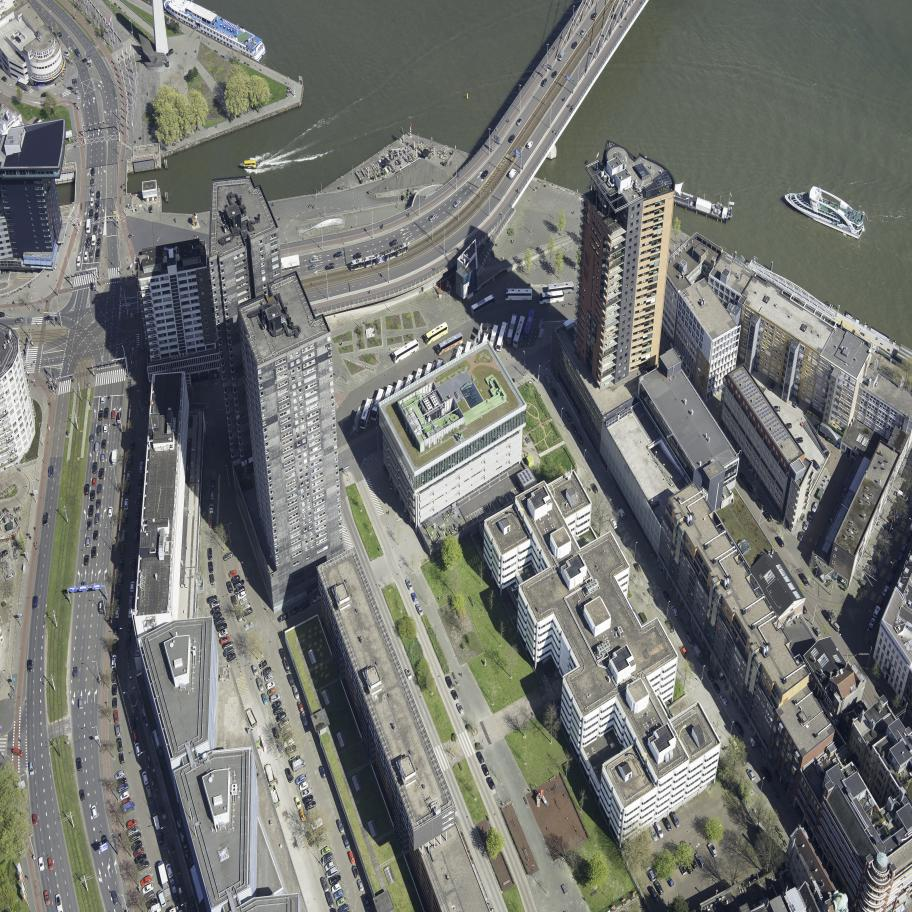large-vehicle: (347, 241, 411, 273), (431, 330, 468, 359), (389, 338, 423, 365), (466, 291, 500, 318), (421, 321, 452, 346), (267, 254, 302, 273), (369, 387, 387, 422), (477, 323, 494, 358), (419, 361, 435, 395), (512, 315, 527, 349), (400, 373, 416, 404), (380, 383, 395, 416), (359, 397, 374, 429), (494, 321, 509, 353), (410, 367, 424, 400), (523, 308, 537, 340), (547, 280, 575, 296), (390, 379, 405, 408), (486, 324, 500, 355), (430, 359, 444, 389), (459, 341, 474, 369), (506, 313, 519, 345), (538, 290, 565, 305), (504, 288, 532, 301), (149, 800, 161, 830)
ship: (772, 170, 876, 248), (660, 184, 736, 225), (239, 159, 258, 170)
small-vehicle: (157, 860, 172, 898), (290, 757, 309, 773), (689, 641, 704, 661), (120, 800, 138, 815), (682, 856, 695, 876), (894, 489, 911, 504), (323, 866, 341, 880), (760, 765, 774, 783), (647, 885, 661, 903), (644, 865, 658, 883), (669, 810, 682, 829), (653, 821, 666, 840), (308, 817, 325, 831), (132, 852, 149, 866), (694, 852, 707, 870), (653, 879, 666, 897), (647, 825, 660, 843), (304, 829, 316, 848), (237, 599, 253, 613), (297, 597, 313, 611), (220, 549, 236, 563), (138, 874, 154, 888), (733, 719, 746, 736), (706, 842, 719, 859), (135, 859, 152, 872), (882, 522, 897, 536), (293, 773, 309, 786), (319, 852, 335, 865), (221, 645, 237, 658), (141, 890, 157, 903), (140, 883, 156, 896), (115, 782, 131, 795), (157, 890, 168, 908), (168, 877, 179, 895), (829, 619, 843, 633), (334, 895, 349, 908), (278, 724, 293, 737), (890, 504, 905, 517), (876, 533, 891, 546), (864, 563, 879, 576), (129, 839, 144, 852), (131, 846, 146, 859), (127, 831, 143, 843), (662, 816, 674, 832), (324, 891, 335, 908), (867, 558, 881, 571), (863, 567, 877, 580), (310, 593, 325, 605), (240, 606, 255, 618), (259, 666, 274, 678), (328, 874, 343, 886), (303, 799, 318, 811), (798, 572, 810, 587), (728, 736, 740, 751), (821, 608, 833, 623), (875, 685, 887, 700), (145, 897, 160, 909), (124, 818, 139, 830), (117, 790, 132, 802), (126, 825, 141, 837), (475, 749, 486, 765), (687, 854, 698, 870), (871, 604, 882, 620), (285, 767, 295, 784), (320, 876, 330, 893), (362, 893, 372, 910), (678, 861, 688, 878), (288, 605, 302, 617), (300, 787, 314, 799), (282, 737, 296, 749), (277, 717, 291, 729), (274, 711, 288, 723), (268, 692, 282, 704), (319, 845, 333, 857), (332, 889, 346, 901), (774, 535, 786, 549), (205, 593, 219, 605), (883, 697, 895, 711), (218, 634, 232, 646), (232, 579, 247, 590), (486, 776, 497, 791), (798, 601, 809, 616), (220, 639, 235, 650), (683, 629, 694, 644), (664, 873, 675, 888), (275, 738, 285, 754), (678, 642, 688, 658), (873, 543, 886, 555), (886, 514, 899, 526), (113, 769, 126, 781), (11, 747, 25, 758), (276, 612, 290, 623), (270, 700, 284, 711), (288, 755, 302, 766), (329, 883, 343, 894), (233, 585, 247, 596), (323, 861, 337, 872), (705, 669, 716, 683), (745, 767, 756, 781), (215, 622, 229, 633), (216, 628, 230, 639), (111, 447, 119, 466), (110, 890, 120, 905), (341, 834, 351, 849), (336, 819, 346, 834), (347, 850, 357, 865), (351, 864, 361, 879), (665, 619, 675, 634), (37, 856, 46, 872), (283, 658, 292, 674), (287, 673, 296, 689), (292, 685, 301, 701), (300, 711, 309, 727), (256, 677, 265, 693), (318, 764, 327, 780), (452, 197, 464, 209), (234, 607, 243, 623), (141, 770, 150, 786), (165, 863, 174, 879), (236, 590, 249, 601), (256, 659, 269, 670), (225, 652, 238, 663), (314, 833, 327, 844), (755, 498, 766, 511), (762, 510, 773, 523), (542, 373, 553, 386), (507, 167, 518, 180), (211, 611, 224, 622), (209, 605, 222, 616), (213, 616, 226, 627), (209, 599, 222, 610), (115, 776, 128, 787), (278, 647, 288, 661), (260, 692, 270, 706), (719, 693, 729, 707), (43, 890, 51, 907), (173, 894, 182, 909), (263, 672, 275, 683), (889, 510, 901, 521), (650, 499, 662, 510), (810, 459, 821, 471), (285, 744, 298, 754), (272, 706, 285, 716), (312, 827, 325, 837), (302, 794, 315, 804), (609, 517, 619, 530), (575, 432, 585, 445), (617, 507, 627, 520), (662, 590, 672, 603), (670, 604, 680, 617), (98, 598, 106, 614), (116, 737, 124, 753), (129, 715, 137, 731), (298, 809, 307, 823), (445, 675, 454, 689), (481, 763, 490, 777), (456, 701, 465, 715), (891, 561, 900, 575), (3, 572, 15, 582), (266, 687, 278, 697), (265, 681, 277, 691), (298, 781, 310, 791), (230, 574, 242, 584), (357, 878, 365, 893), (744, 481, 754, 493), (737, 471, 747, 483), (563, 410, 573, 422), (495, 495, 505, 507), (226, 579, 234, 594), (712, 682, 722, 694), (767, 380, 777, 392), (134, 742, 142, 757), (145, 784, 153, 799), (121, 796, 133, 806), (272, 727, 281, 740), (296, 700, 305, 713), (405, 578, 414, 591), (415, 603, 424, 616), (404, 668, 413, 681), (886, 572, 895, 585), (590, 482, 599, 495), (881, 584, 890, 597), (792, 397, 801, 410), (811, 500, 820, 513), (899, 542, 908, 555), (90, 805, 98, 819), (31, 813, 39, 827), (101, 835, 108, 851), (294, 796, 302, 810), (428, 212, 439, 222), (480, 169, 490, 180), (510, 583, 521, 593), (812, 626, 822, 637), (525, 139, 535, 150), (282, 732, 294, 741), (450, 689, 459, 701), (324, 262, 336, 271), (557, 50, 566, 62), (570, 423, 579, 435), (797, 530, 806, 542), (876, 596, 885, 608), (802, 520, 811, 532), (42, 512, 49, 527), (114, 723, 121, 738), (231, 595, 239, 608), (896, 551, 904, 564), (807, 510, 815, 523), (238, 597, 249, 606), (227, 569, 238, 578), (388, 238, 399, 247), (352, 251, 363, 260), (507, 133, 516, 144), (550, 387, 559, 398), (164, 48, 175, 57), (633, 562, 642, 573), (47, 858, 54, 872), (76, 757, 83, 771), (132, 729, 139, 743), (868, 617, 876, 629), (251, 664, 259, 676), (86, 518, 93, 531), (79, 789, 86, 802), (209, 573, 216, 586), (29, 762, 35, 777), (111, 654, 117, 669), (540, 77, 549, 87), (113, 709, 119, 724), (516, 116, 524, 127), (32, 596, 38, 610), (119, 751, 125, 765), (590, 11, 598, 21), (48, 465, 54, 478), (27, 660, 33, 673), (88, 504, 94, 517), (91, 546, 97, 559), (85, 535, 91, 548), (92, 461, 98, 474), (98, 467, 104, 480), (117, 573, 123, 586), (208, 561, 214, 574), (121, 529, 127, 542), (126, 619, 132, 632), (125, 633, 131, 646), (411, 592, 418, 603), (770, 405, 781, 412), (86, 219, 91, 234), (158, 830, 163, 845), (103, 407, 109, 419), (96, 424, 102, 436), (62, 49, 70, 58), (83, 554, 89, 566), (112, 639, 118, 651), (91, 235, 97, 247), (308, 263, 317, 271), (56, 30, 64, 39), (114, 607, 120, 619), (74, 48, 81, 58), (309, 256, 319, 263), (333, 251, 343, 258), (116, 591, 121, 605), (81, 579, 87, 590), (90, 490, 96, 501), (93, 530, 99, 541), (100, 452, 106, 463), (85, 237, 91, 248), (76, 256, 82, 267), (116, 412, 122, 423), (95, 440, 100, 453), (119, 558, 124, 571), (112, 670, 117, 683), (84, 483, 89, 496), (128, 595, 133, 608), (208, 548, 213, 561), (14, 35, 22, 43), (0, 75, 8, 83), (44, 314, 53, 321), (15, 317, 24, 324), (551, 70, 558, 79), (571, 41, 578, 50), (783, 422, 792, 429), (95, 513, 100, 525), (101, 439, 107, 449), (112, 684, 117, 696), (73, 666, 78, 678), (97, 483, 102, 495), (139, 461, 144, 473), (125, 482, 130, 494), (51, 31, 58, 39), (46, 25, 53, 33), (611, 12, 618, 20), (580, 28, 587, 36), (98, 410, 103, 421), (96, 499, 101, 510), (108, 506, 113, 517), (120, 543, 125, 554), (131, 557, 136, 568), (130, 581, 135, 592), (138, 475, 143, 486), (124, 499, 129, 510), (136, 496, 141, 507), (133, 532, 138, 543), (134, 520, 139, 531), (128, 455, 133, 466), (79, 697, 83, 710), (93, 224, 98, 234), (94, 211, 99, 221), (89, 209, 94, 219), (84, 251, 89, 261), (130, 440, 135, 450), (209, 504, 214, 514), (128, 608, 133, 618), (40, 92, 48, 98), (795, 437, 803, 443), (111, 410, 116, 419), (103, 424, 108, 433), (92, 477, 97, 486), (131, 571, 136, 580), (89, 250, 94, 259), (210, 479, 215, 488), (137, 487, 142, 496), (210, 491, 215, 500), (209, 519, 214, 528), (113, 698, 117, 709), (114, 624, 118, 635), (91, 187, 95, 197), (96, 248, 100, 258), (123, 514, 127, 524), (127, 471, 131, 481), (101, 395, 105, 404), (90, 434, 94, 443), (90, 198, 94, 207), (91, 167, 95, 176), (136, 509, 140, 518), (99, 227, 103, 235), (97, 238, 101, 246), (149, 205, 153, 213), (97, 190, 100, 200), (96, 201, 99, 209), (91, 178, 94, 186)
